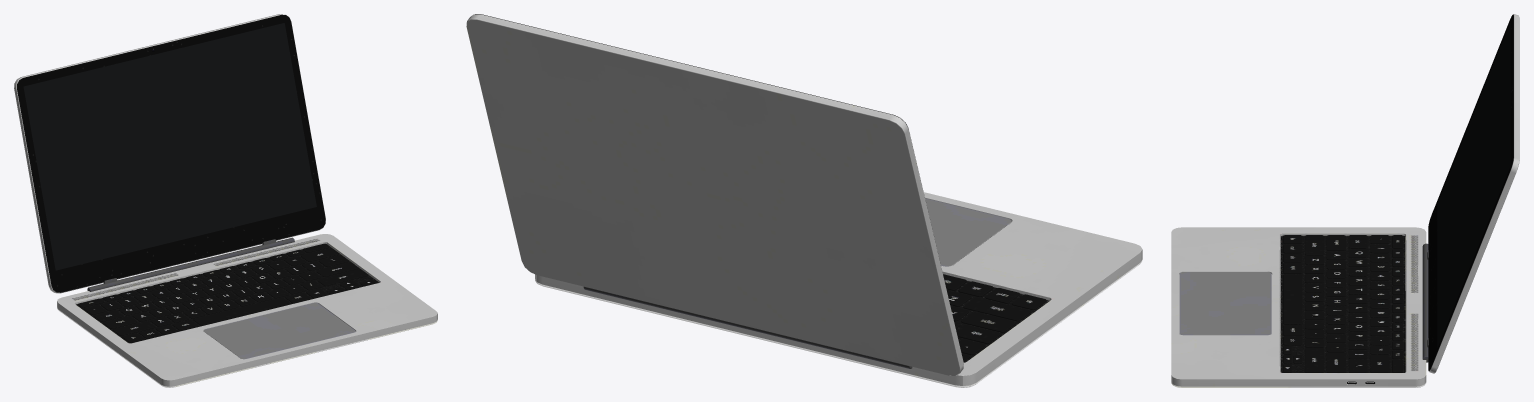
Rendered from laptop-generic-mobile.glb.
3 renders of one model, left to right at view 1: azimuth 30°, elevation 25°; view 2: azimuth 150°, elevation 25°; view 3: azimuth 270°, elevation 25°, orthographic. The views are drawn at different scales.
Parts seen in each view (by area): view 1: screen, base, lid_shell; view 2: lid_shell, base; view 3: base, screen, lid_shell.
Boxes of the visible parts, x1=… form: screen: x1=23, y1=23, x2=316, y2=270; base: x1=57, y1=234, x2=437, y2=387; lid_shell: x1=14, y1=14, x2=325, y2=293; lid_shell: x1=466, y1=14, x2=963, y2=375; base: x1=535, y1=192, x2=1142, y2=387; base: x1=1171, y1=227, x2=1428, y2=387; screen: x1=1437, y1=23, x2=1510, y2=347; lid_shell: x1=1427, y1=14, x2=1519, y2=373.
Size of the model in its own units: 0.312 by 0.217 by 0.302.
2 materials, 1 textured.
